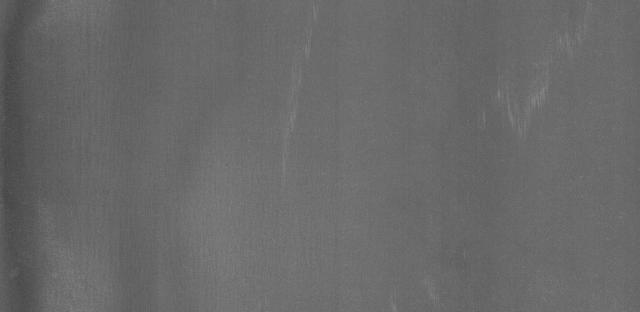silk_spot: (456, 37, 568, 157)
